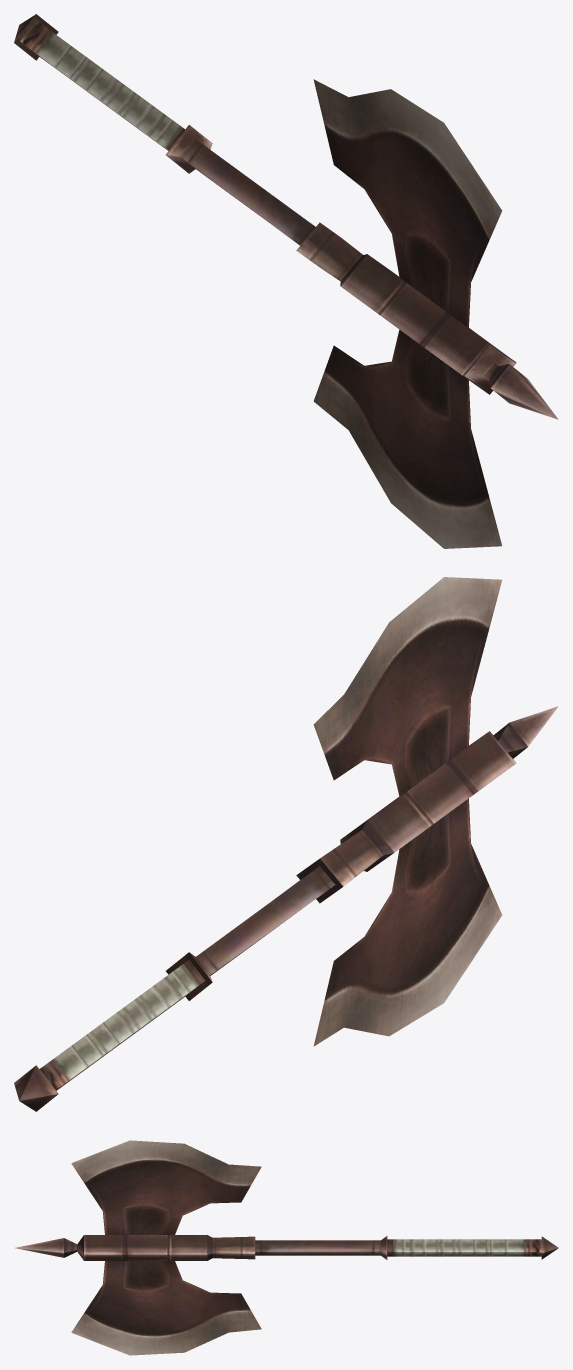
3 renders of one model, top to bottom at view 1: azimuth 30°, elevation 25°; view 2: azimuth 150°, elevation 25°; view 3: azimuth 270°, elevation 25°, orthographic. The views are drawn at different scales.
Visible parts, largest first — view 1: sm_1, sm_0; view 2: sm_1, sm_0; view 3: sm_1, sm_0.
Part boxes in pixels (<box>): sm_1: <box>313,79,502,548</box>; sm_0: <box>14,14,558,419</box>; sm_1: <box>313,577,502,1046</box>; sm_0: <box>14,706,558,1111</box>; sm_1: <box>71,1140,261,1355</box>; sm_0: <box>15,1235,558,1260</box>.
Bounding box in the file's own units: 31.17 × 235 × 539.
Materials: 2 (2 with a texture image).
